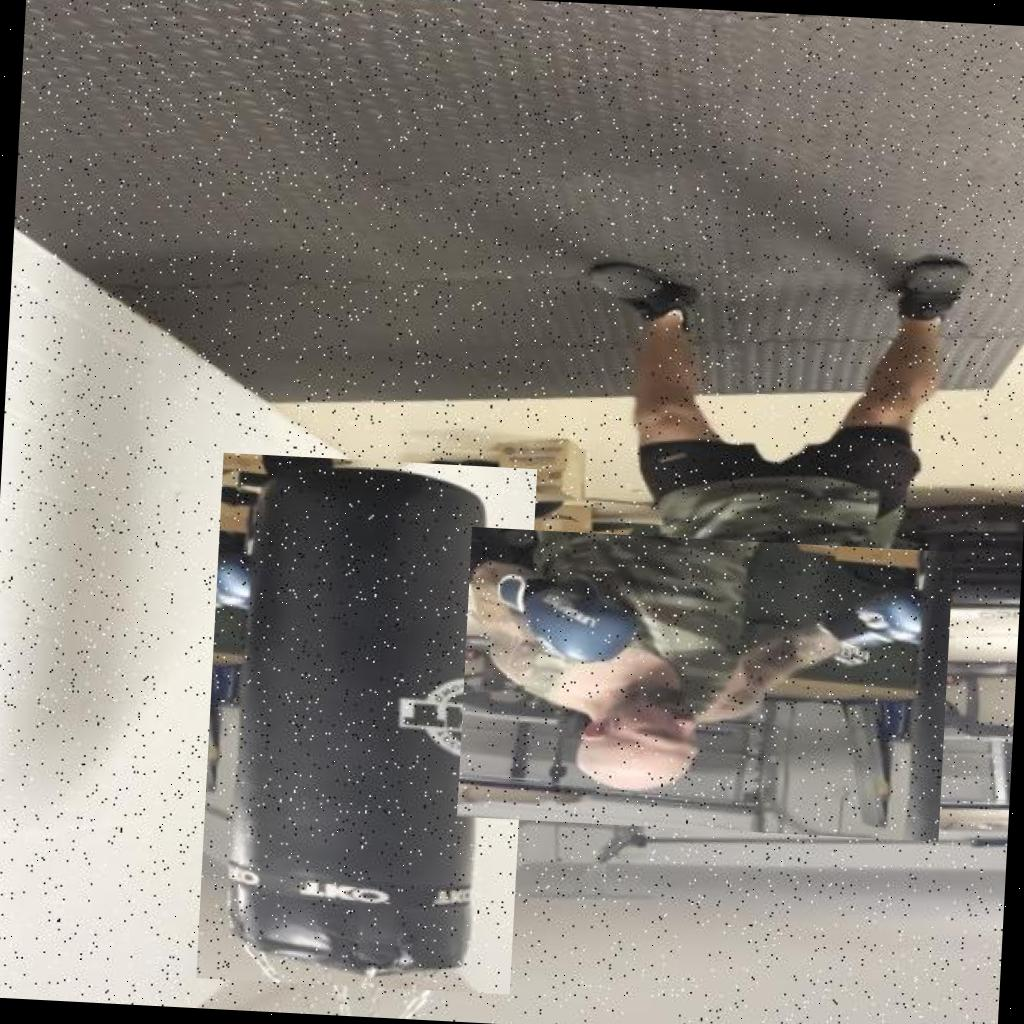bag: (196, 453, 538, 994)
hook: (457, 527, 954, 842)
